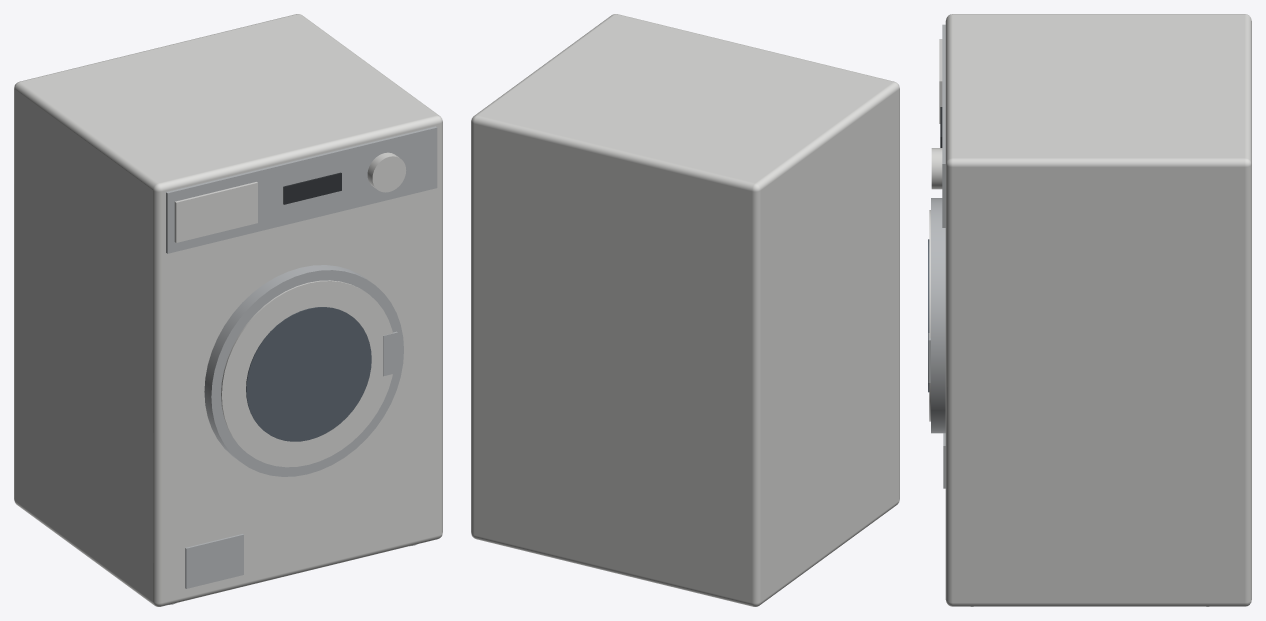
Rendered from lavadora.glb.
3 views of the same model, side by side, from view 1: azimuth 30°, elevation 25°; view 2: azimuth 150°, elevation 25°; view 3: azimuth 270°, elevation 25° (orthographic). The views are drawn at different scales.
Parts seen in each view (by area): view 1: lavadora; view 2: lavadora; view 3: lavadora.
Part boxes in pixels (left/top/right/bottom): lavadora: left=14, top=14, right=442, bottom=606; lavadora: left=471, top=14, right=899, bottom=606; lavadora: left=928, top=14, right=1251, bottom=606.
Bounding box in the file's own units: 0.6 × 0.85 × 0.55.
